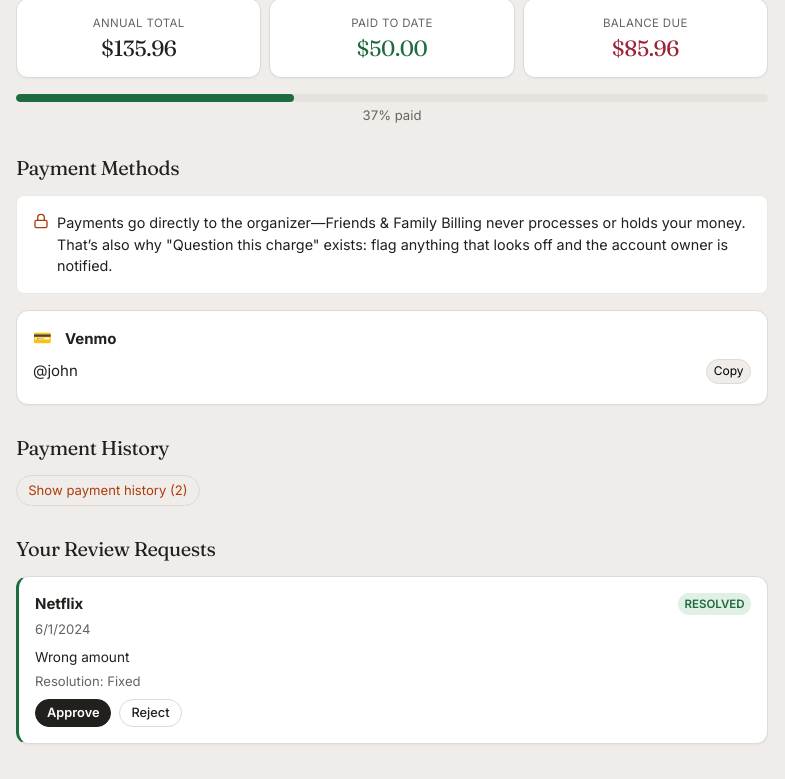
Test case: ShareView › payment history › renders a "Show payment history" entry point and expands the list on demand (#357)
The image size is (785, 779).
(page scrolled)
Expected: the text "$100.00" is not shown
Click the button "Show payment history (2)": (108, 491) [16,475,200,506]
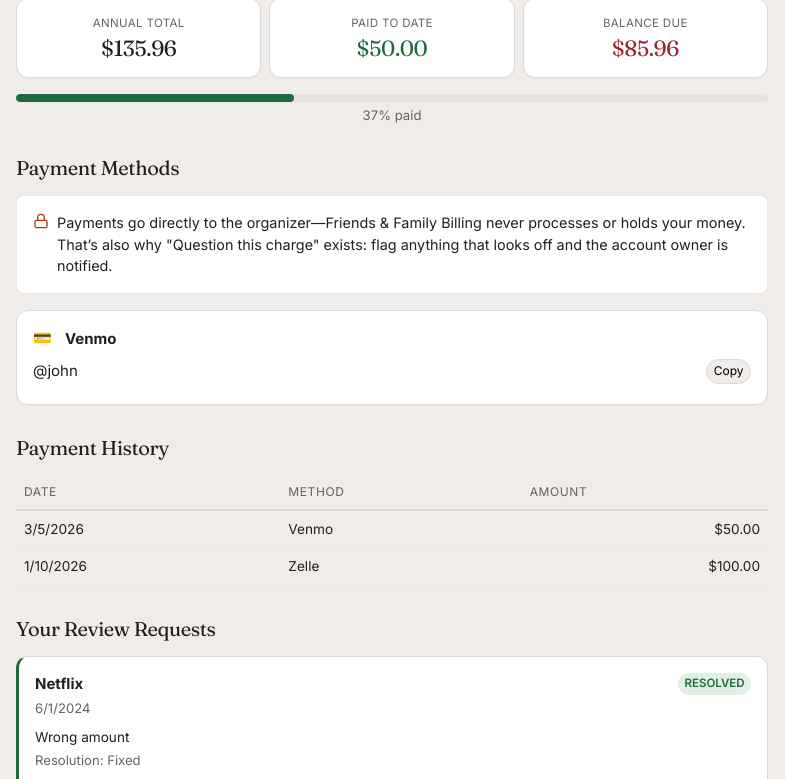
Now the text "$50.00" is shown, box [522,510,768,548]
Now the text "$100.00" is shown, box [522,548,768,585]
Now the text "Venmo" is shown, box [280,510,522,548]
